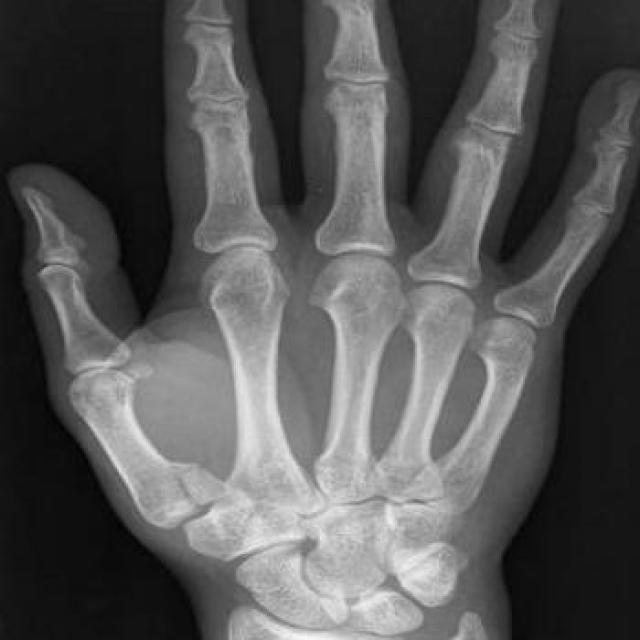Fracture: (155, 451, 244, 522)
